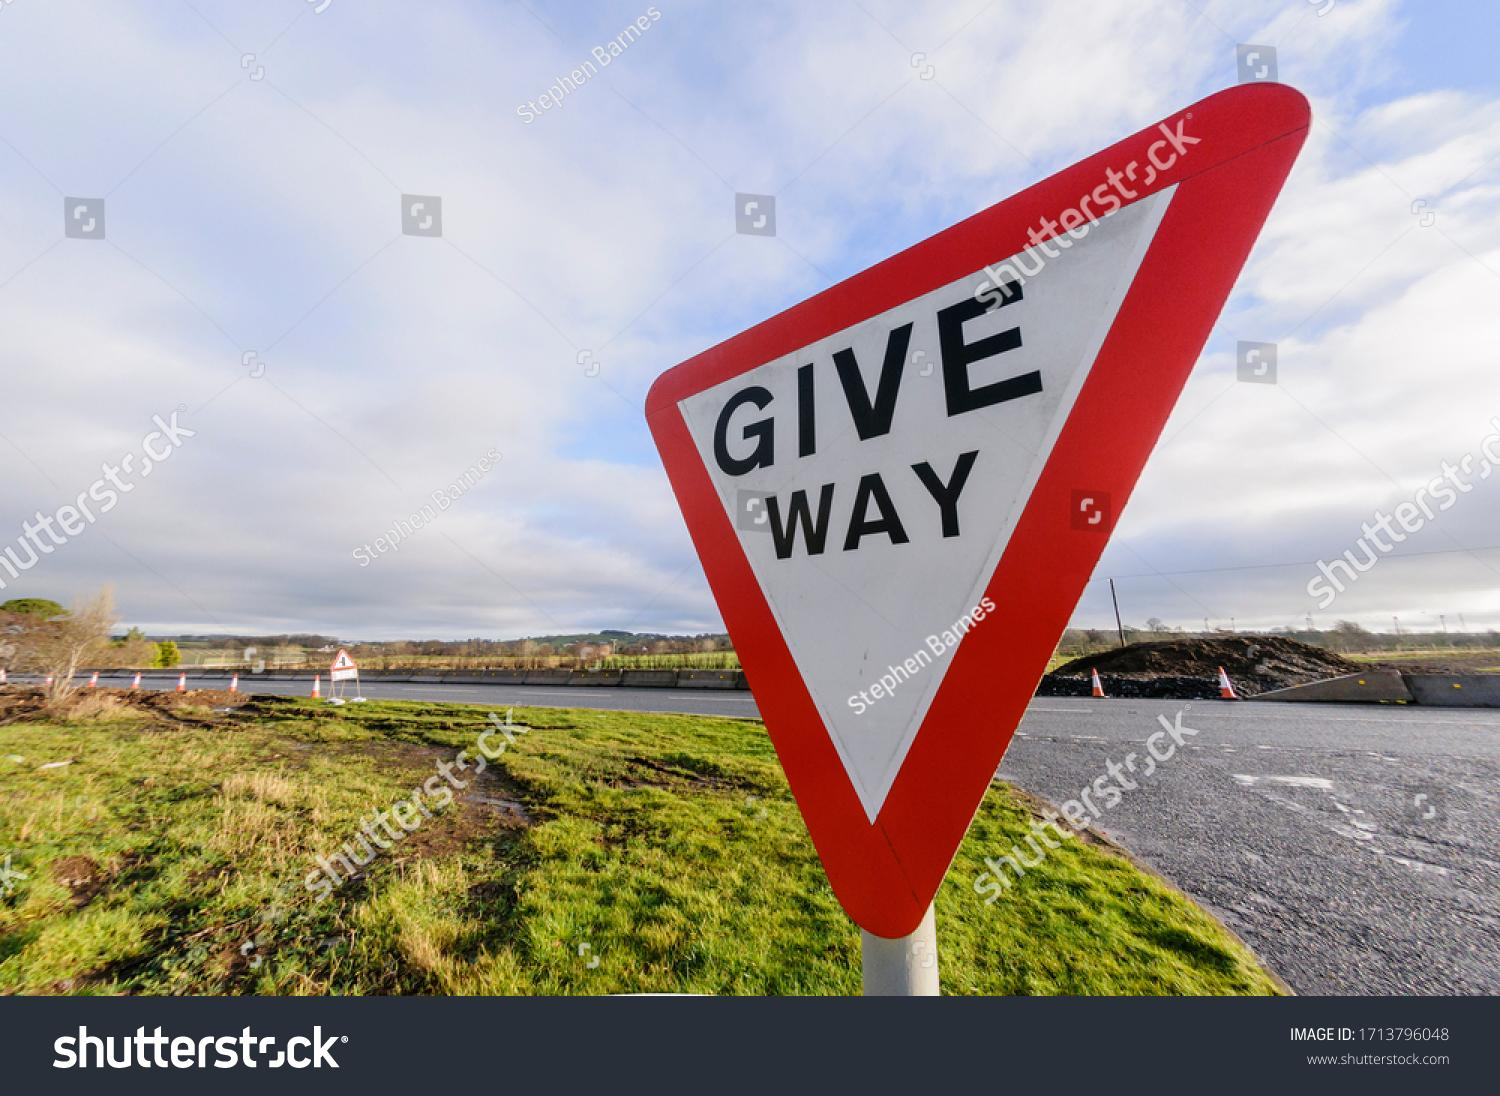Give Way: (571, 73, 1437, 924)
